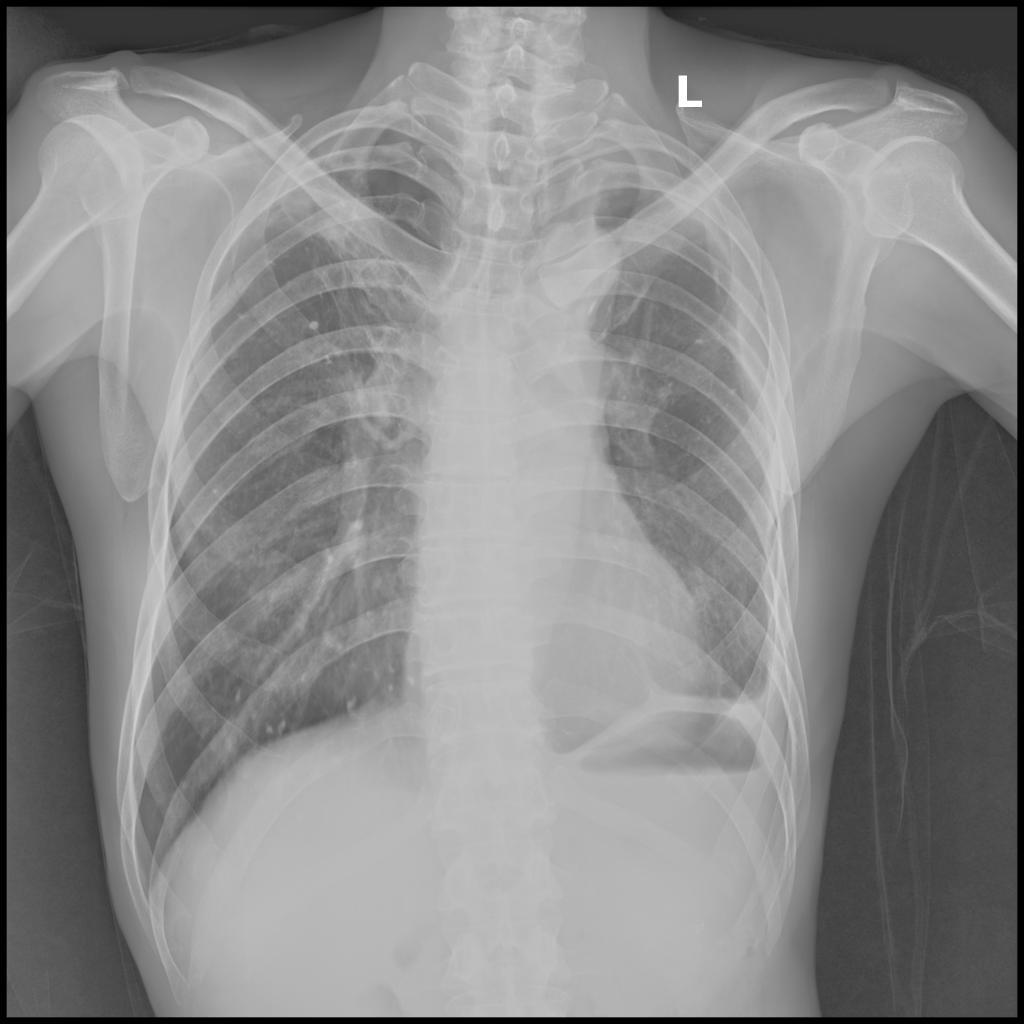Nodule: (307, 318, 324, 334)
